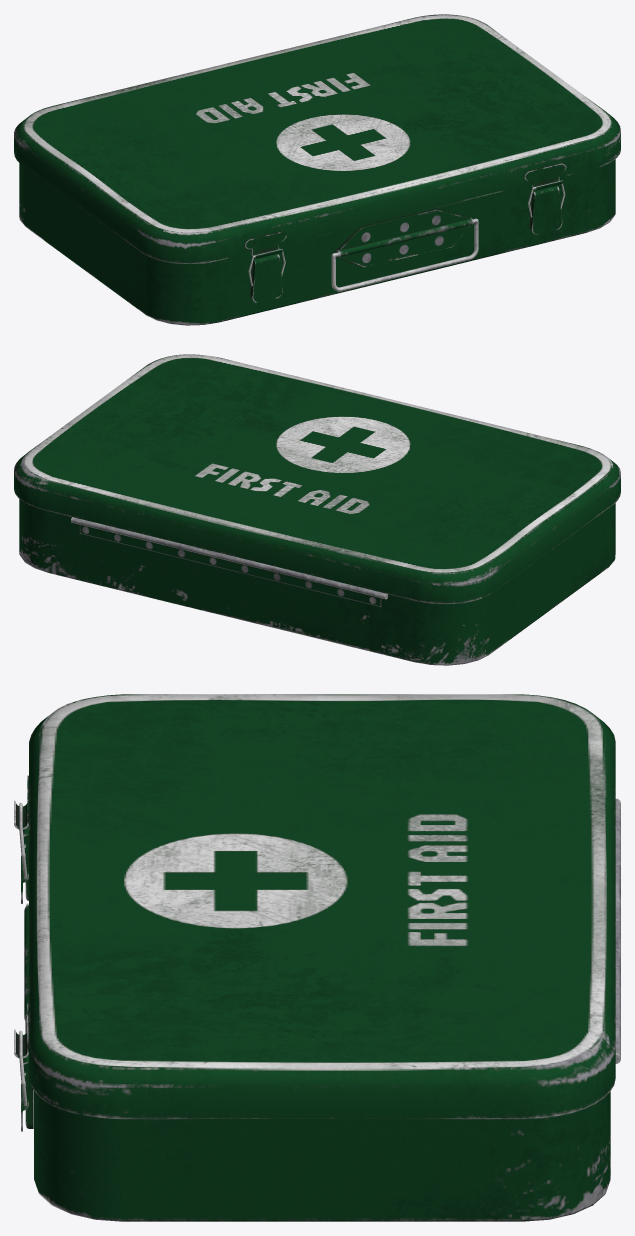
File: medical_box_4k.gltf
The picture shows the model from 3 angles, top to bottom: view 1: azimuth 30°, elevation 25°; view 2: azimuth 150°, elevation 25°; view 3: azimuth 270°, elevation 25°; orthographic projection. The views are drawn at different scales.
Parts seen in each view (by area): view 1: medical_box_lid, medical_box, medical_box_latch, medical_box_handle; view 2: medical_box_lid, medical_box; view 3: medical_box_lid, medical_box.
Part boxes in pixels (x1=…): medical_box_lid: x1=14, y1=14, x2=620, y2=263; medical_box: x1=19, y1=159, x2=615, y2=325; medical_box_latch: x1=251, y1=185, x2=562, y2=302; medical_box_handle: x1=331, y1=218, x2=478, y2=291; medical_box_lid: x1=14, y1=354, x2=620, y2=603; medical_box: x1=19, y1=499, x2=615, y2=665; medical_box_lid: x1=14, y1=694, x2=615, y2=1118; medical_box: x1=24, y1=798, x2=620, y2=1221.
Bounding box in the file's own units: 0.5255 × 0.0975 × 0.3502.
1 material, 1 textured.
